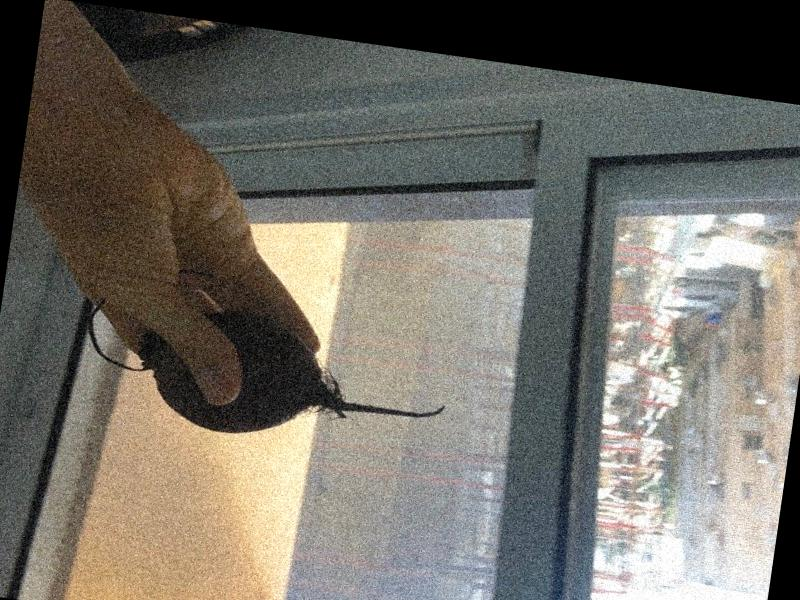Beet: (76, 255, 460, 463)
